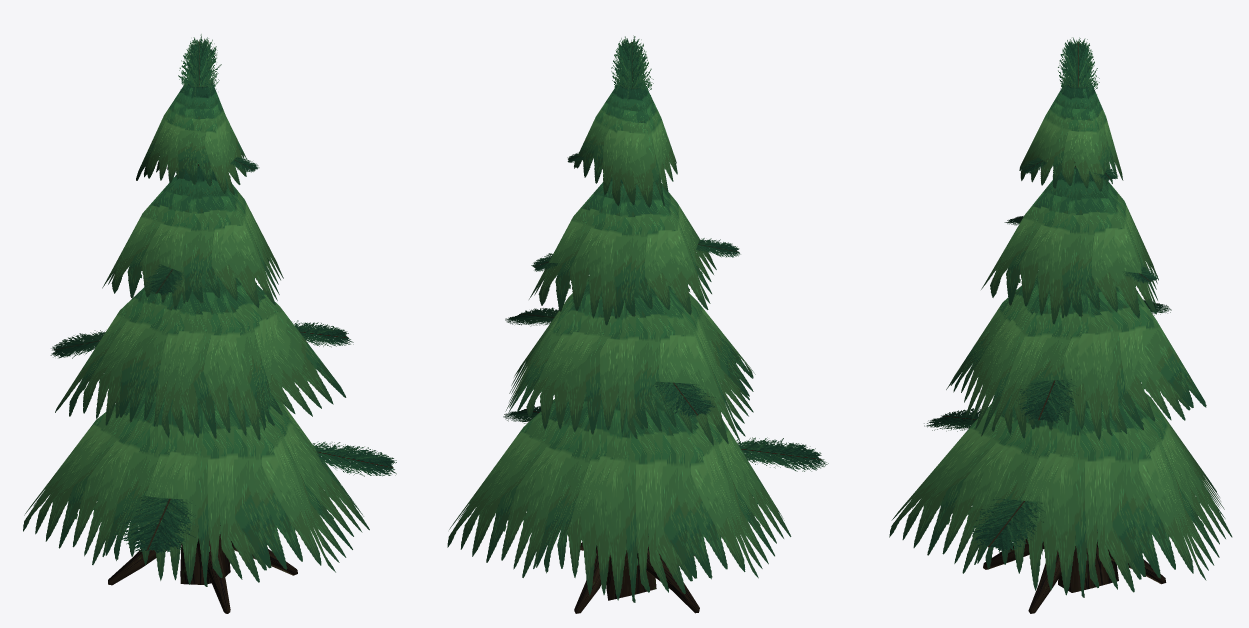
Rendered from tree_pine_b.glb.
3 renders of one model, left to right at view 1: azimuth 30°, elevation 25°; view 2: azimuth 150°, elevation 25°; view 3: azimuth 270°, elevation 25°, orthographic.
Parts seen in each view (by area): view 1: tree_pine_b; view 2: tree_pine_b; view 3: tree_pine_b.
Part boxes in pixels (bbox=[...]): tree_pine_b: bbox=[23, 34, 396, 613]; tree_pine_b: bbox=[447, 35, 828, 613]; tree_pine_b: bbox=[889, 37, 1232, 613].
Bounding box in the file's own units: 3.11 × 4.61 × 2.7.
2 materials, 2 textured.
